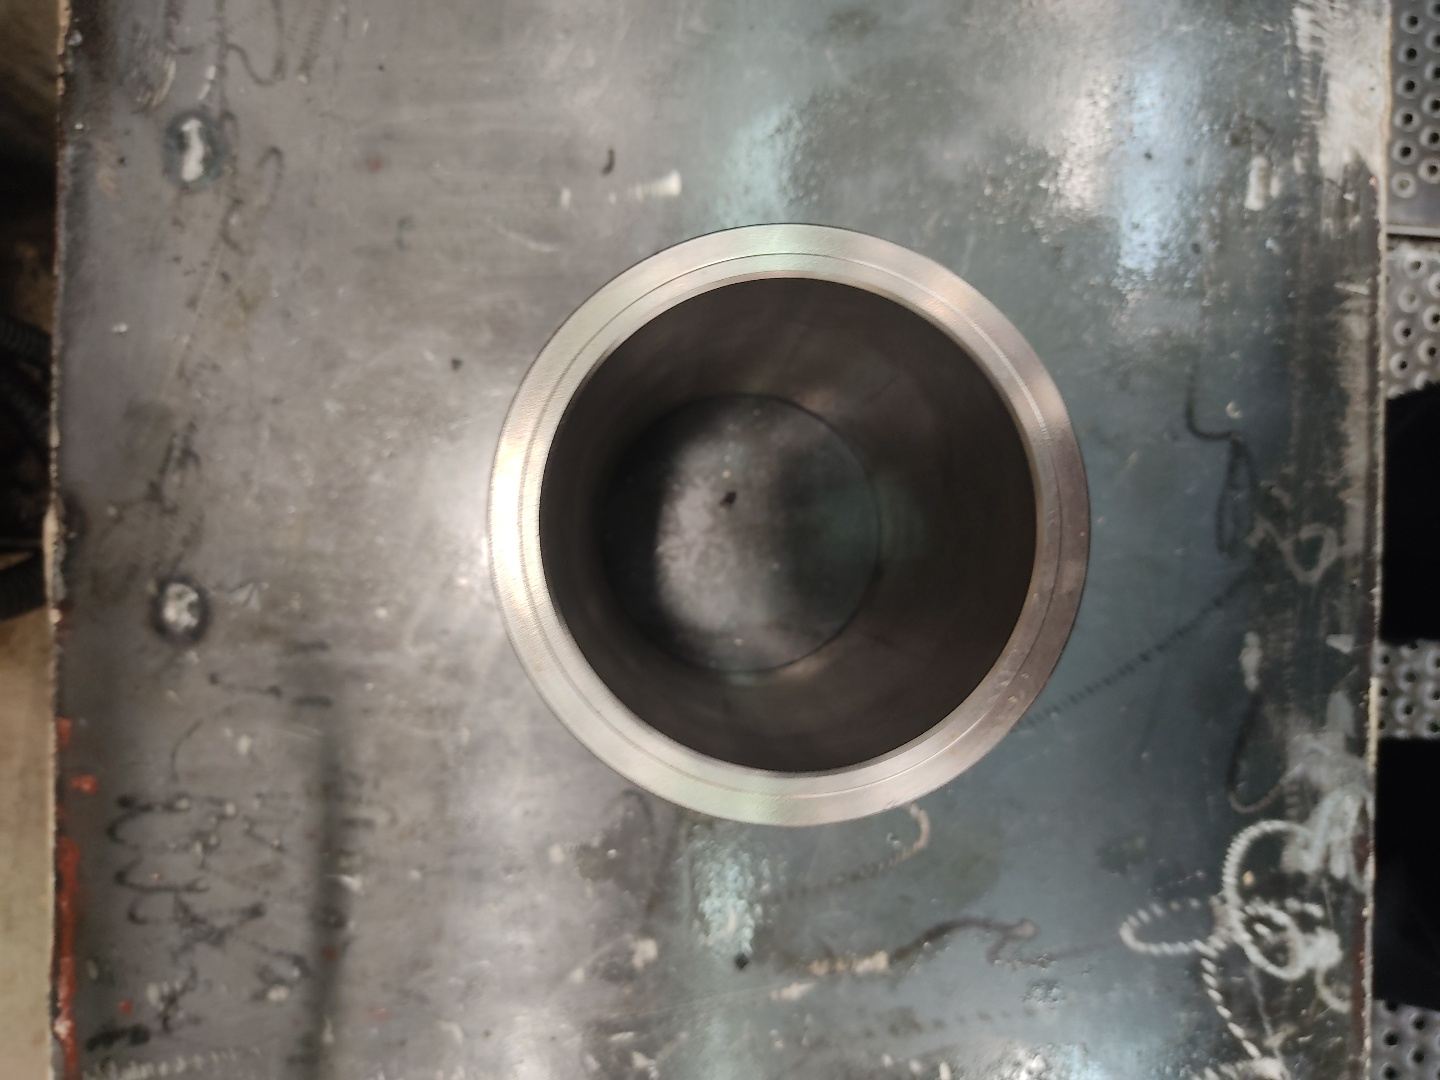cylinder: (484, 219, 1094, 833)
